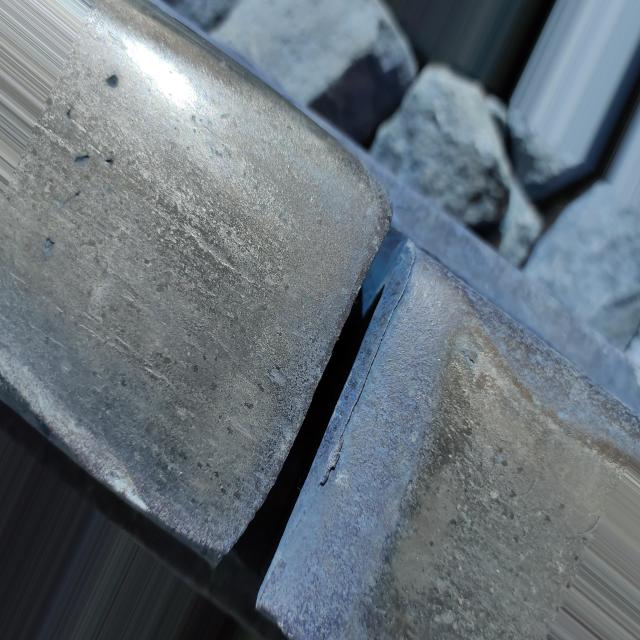crack: (172, 132, 436, 640)
